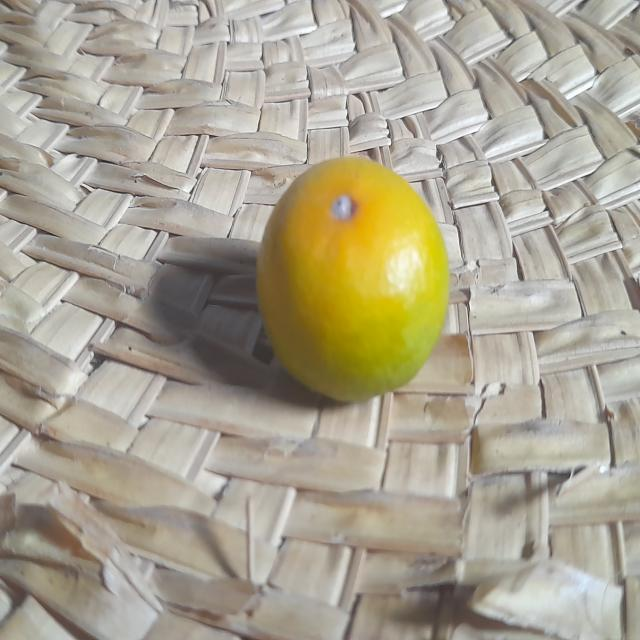greening: (254, 149, 450, 406)
